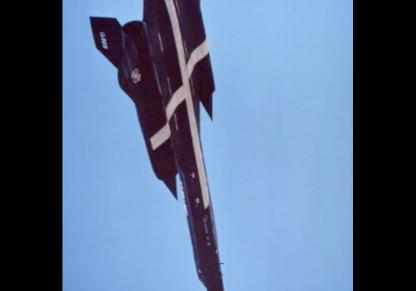Rafale: (87, 0, 230, 290)
